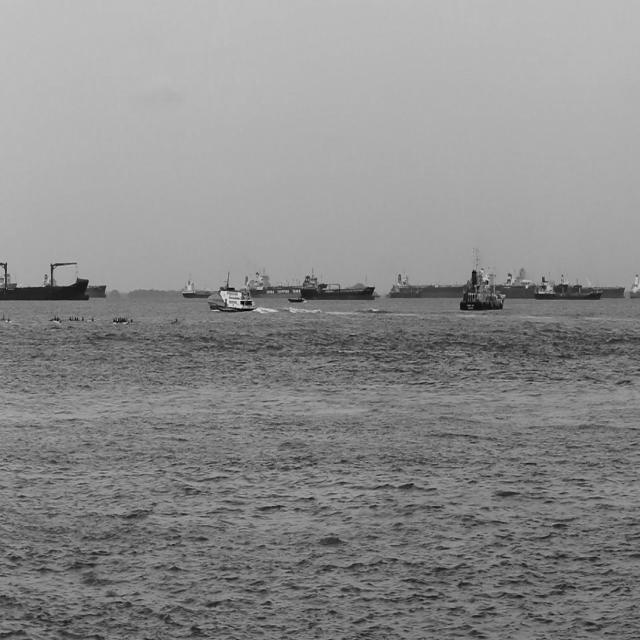kayak: (62, 312, 87, 325), (110, 314, 137, 325), (287, 293, 307, 304), (171, 314, 185, 327), (2, 312, 13, 324), (52, 313, 64, 324), (89, 313, 99, 325), (8, 316, 18, 327), (57, 314, 67, 325)
ship: (384, 263, 530, 297), (0, 258, 92, 300), (521, 262, 628, 296), (459, 244, 507, 312), (301, 266, 377, 301), (242, 260, 304, 298), (534, 271, 603, 299), (209, 284, 264, 314), (43, 270, 108, 294), (182, 269, 230, 299), (0, 268, 22, 289)
